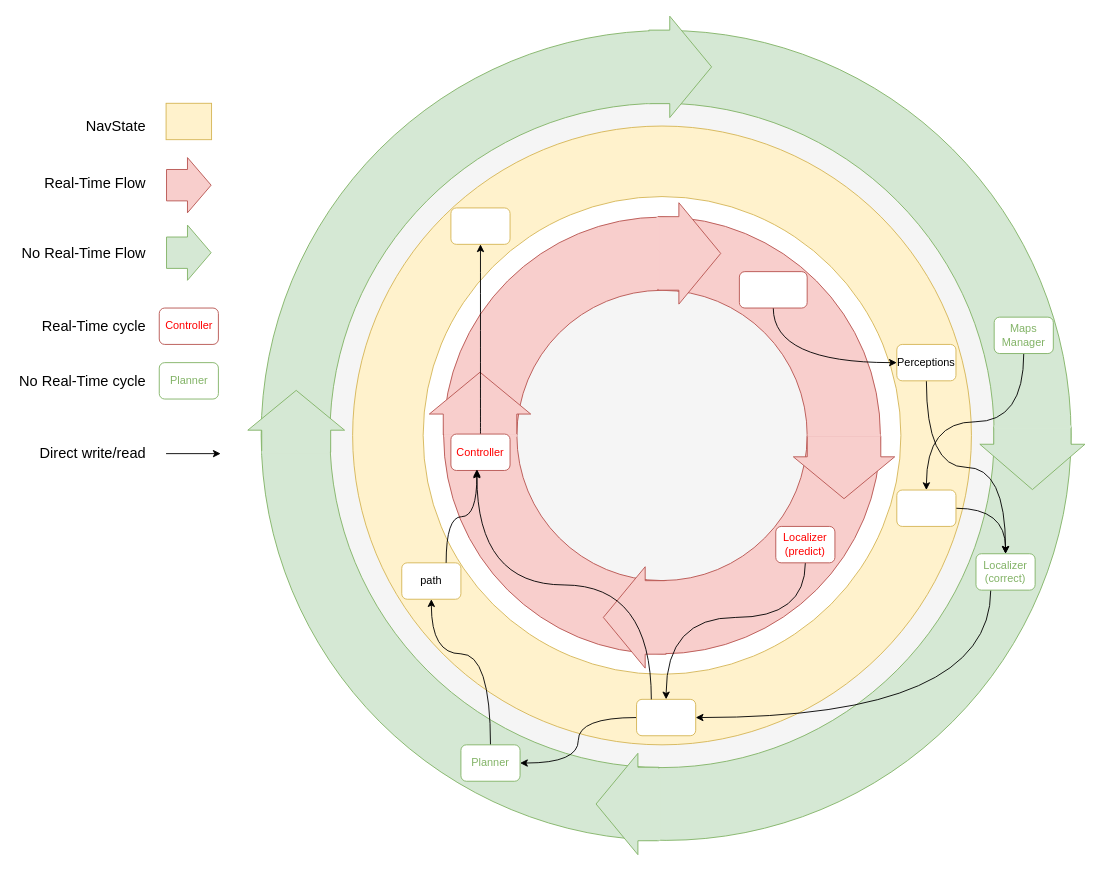
Image size: 1101x871. Some labels were removed from this diagram. Each missing label, with the centre of its shape:
"Maps" belongs at pixel 926 507.
"odom" belongs at pixel 666 717.
"Sensor" belongs at pixel 772 289.
"speed" belongs at pixel 480 225.
